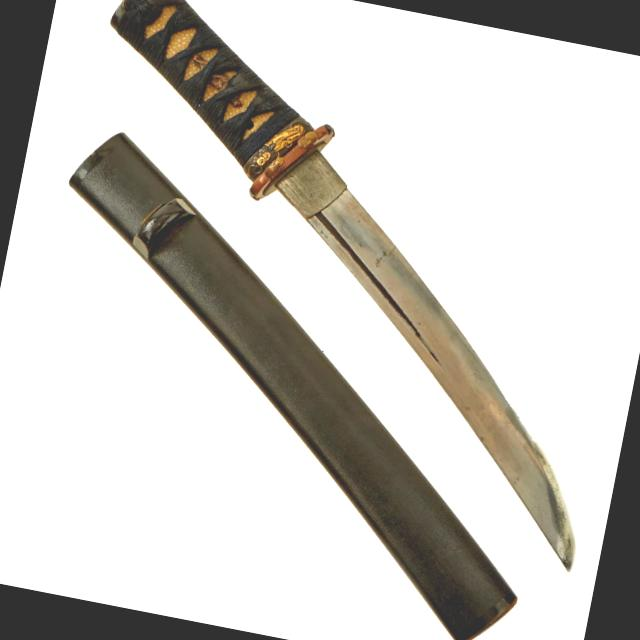short sword: (3, 0, 640, 591)
